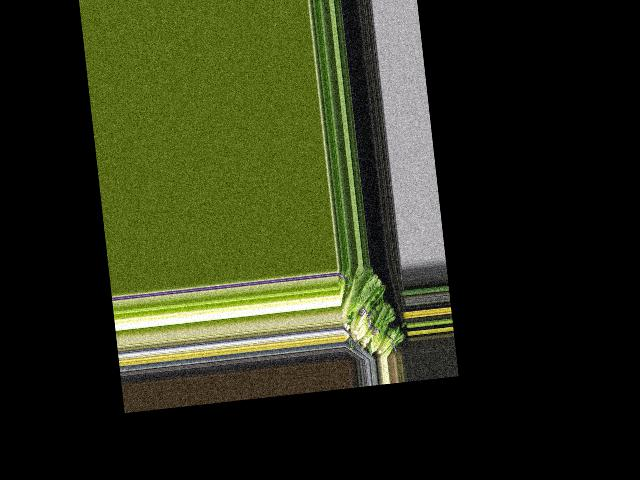lettuce: (339, 265, 382, 322)
